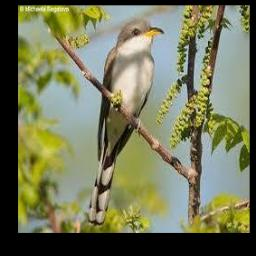Cuckoo: (86, 21, 165, 227)
